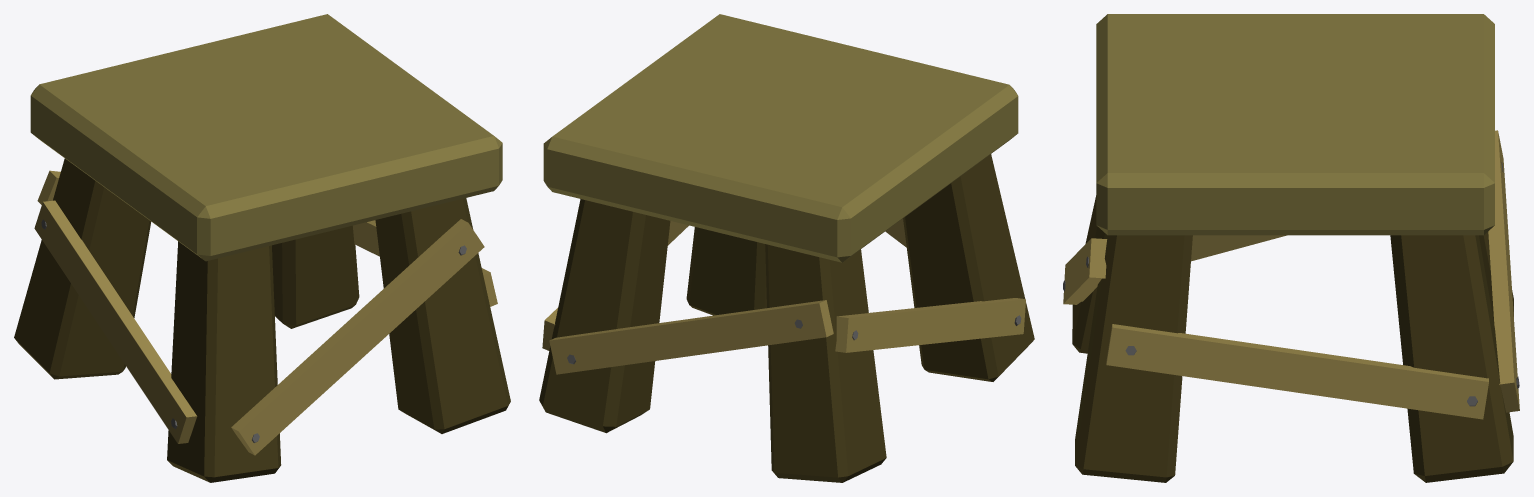
Rendered from chair.fbx.
3 views of the same model, side by side, from view 1: azimuth 30°, elevation 25°; view 2: azimuth 150°, elevation 25°; view 3: azimuth 270°, elevation 25° (orthographic). The views are drawn at different scales.
Visible parts, largest first — view 1: Cube; view 2: Cube; view 3: Cube.
Part boxes in pixels (x1,y1,x2,y2): Cube: (14,14,510,482); Cube: (539,14,1034,482); Cube: (1063,14,1519,482).
Bounding box in the file's own units: 137 × 116 × 150.
